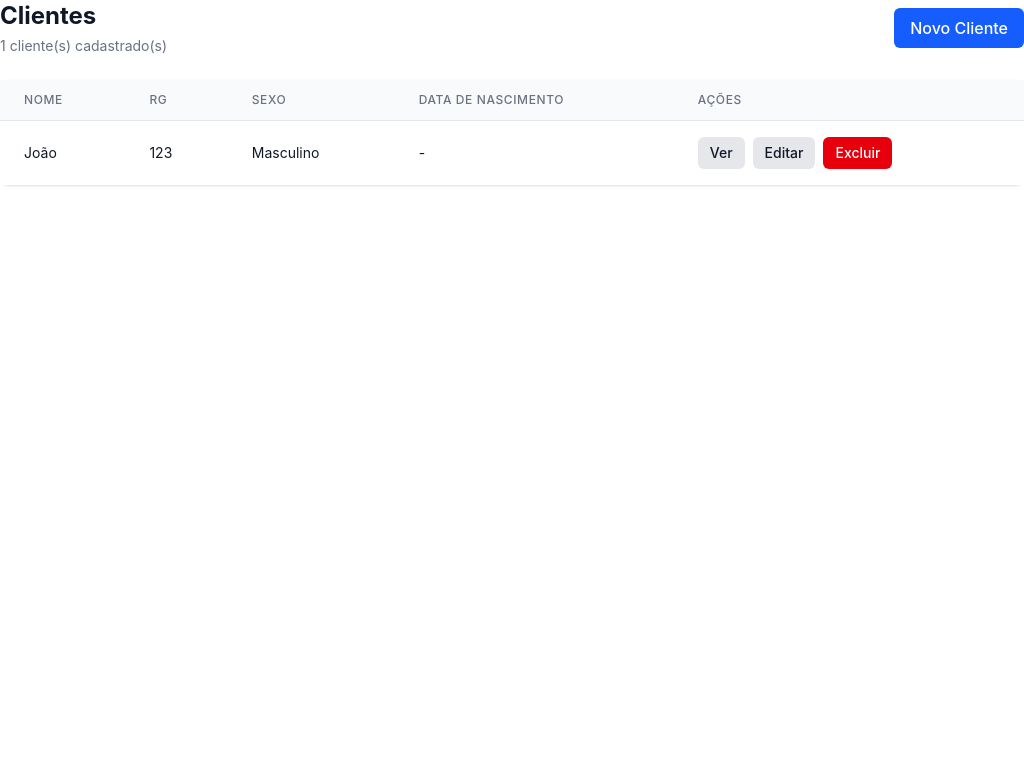
Test case: ClientesListPage › opens delete confirmation modal when delete button is clicked
What coordinates should you click on to do the following:
click the button "Excluir"
I would click on:
 (858, 153)
Its box is [823,137,892,169].
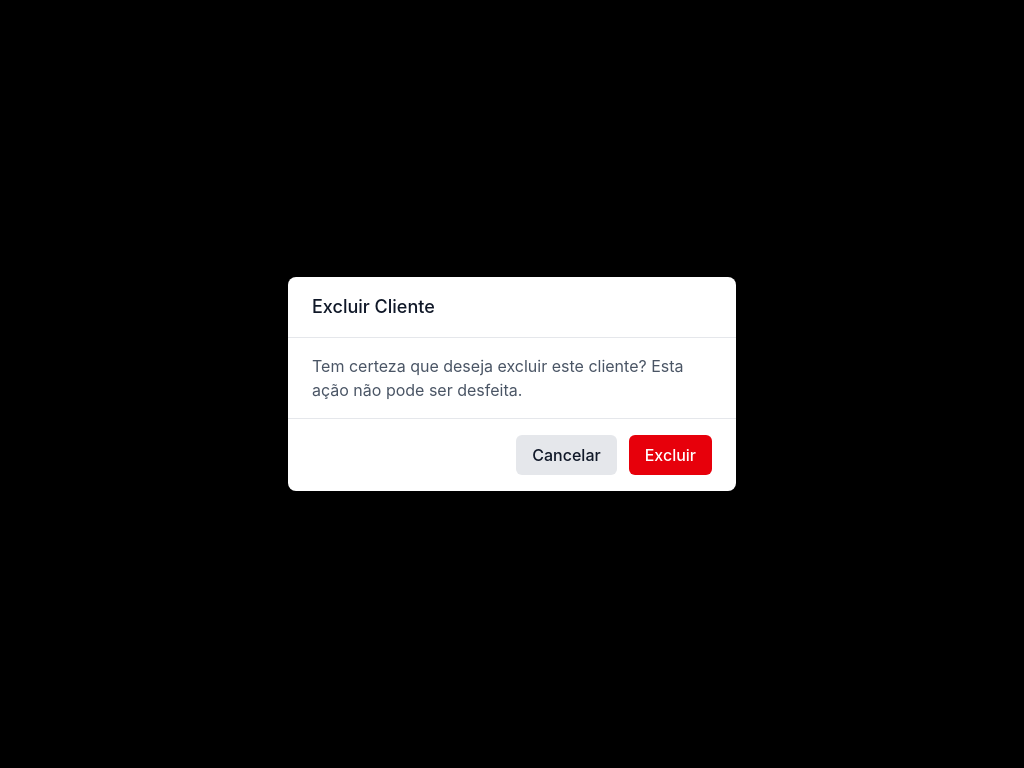
Check: the heading "Excluir Cliente" is shown, box [312,296,435,317]
Check: the text "Tem certeza que deseja excluir" is shown, box [312,356,684,400]
